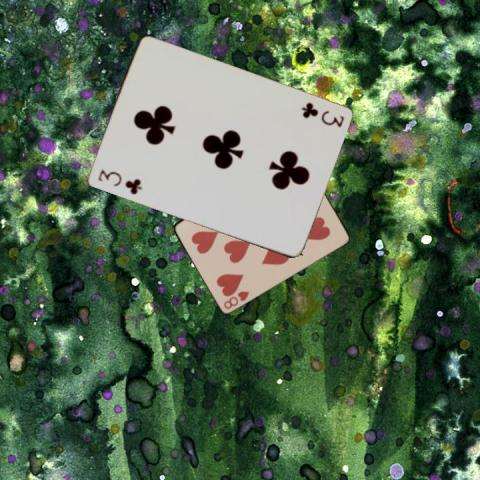3c: (95, 166, 143, 196), (298, 99, 345, 129)
8h: (221, 288, 251, 310)
